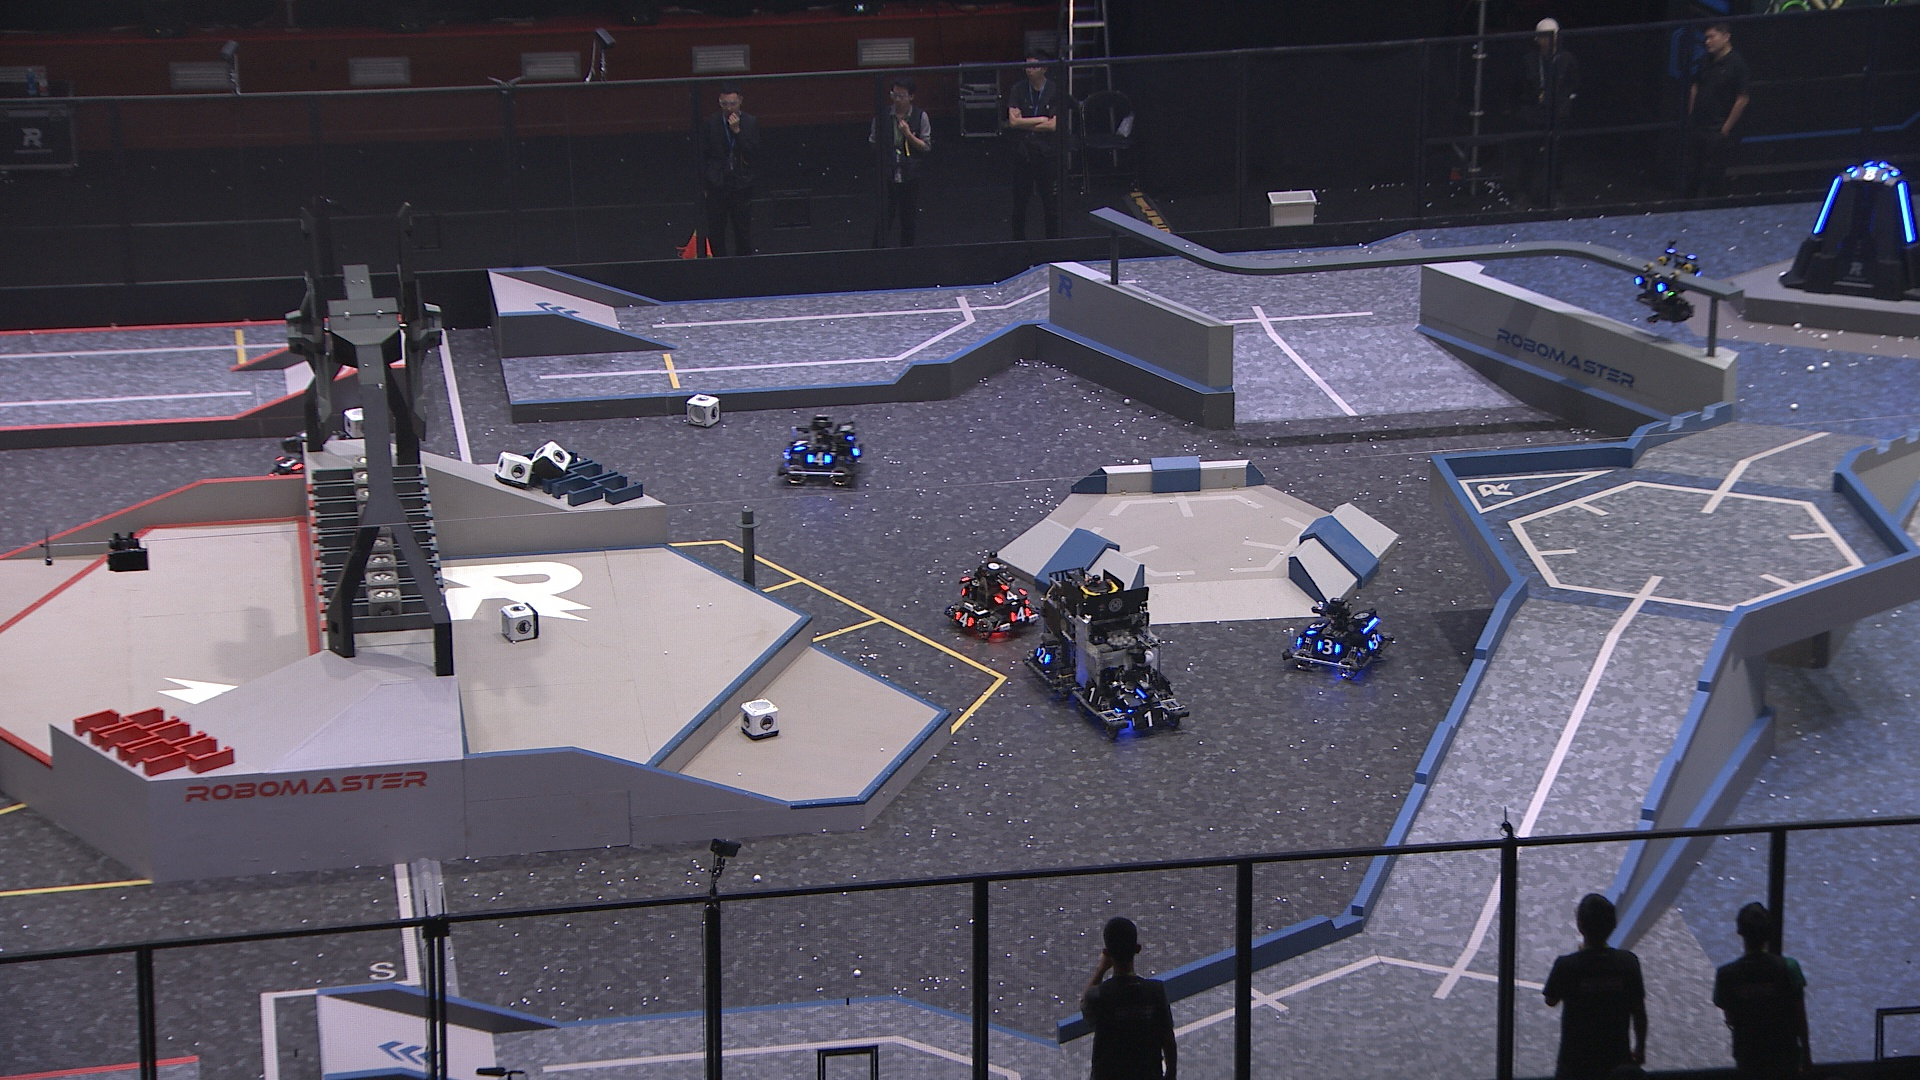armor: (1811, 175, 1841, 233), (1894, 179, 1916, 243), (1124, 688, 1159, 709), (1131, 709, 1167, 731), (1851, 164, 1888, 182), (1634, 276, 1665, 297), (276, 454, 305, 473), (803, 452, 833, 469), (1315, 638, 1340, 657), (994, 588, 1026, 603), (1083, 683, 1101, 707), (953, 609, 975, 629), (1010, 604, 1033, 622), (1036, 645, 1051, 669), (794, 434, 807, 455), (1305, 618, 1324, 633), (1367, 632, 1381, 651), (851, 438, 862, 458)
base: (1780, 162, 1920, 301)
car: (1065, 583, 1189, 736), (1027, 567, 1125, 695), (1286, 597, 1393, 676), (945, 555, 1039, 640), (268, 425, 363, 502), (774, 413, 865, 487)
watcher: (1634, 245, 1706, 327)
